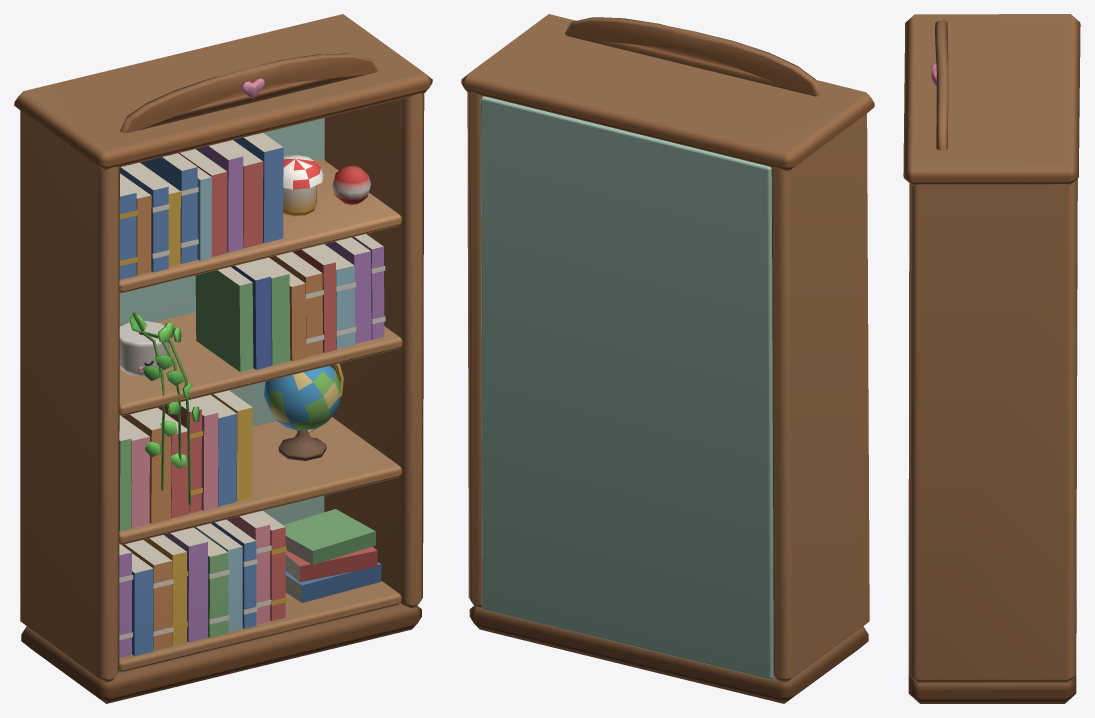
The model's file is furn-bookshelf.glb.
3 views of the same model, side by side, from view 1: azimuth 30°, elevation 25°; view 2: azimuth 150°, elevation 25°; view 3: azimuth 270°, elevation 25° (orthographic). The views are drawn at different scales.
Visible parts, largest first — view 1: body, leaf, cloth; view 2: body; view 3: body.
Boxes of the visible parts, left/top/right/bottom form: body: left=14, top=14, right=432, bottom=703; leaf: left=130, top=312, right=199, bottom=505; cloth: left=283, top=155, right=323, bottom=189; body: left=461, top=14, right=874, bottom=703; body: left=903, top=14, right=1080, bottom=703.
Size of the model in its own units: 0.9924 by 1.66 by 0.4645.
